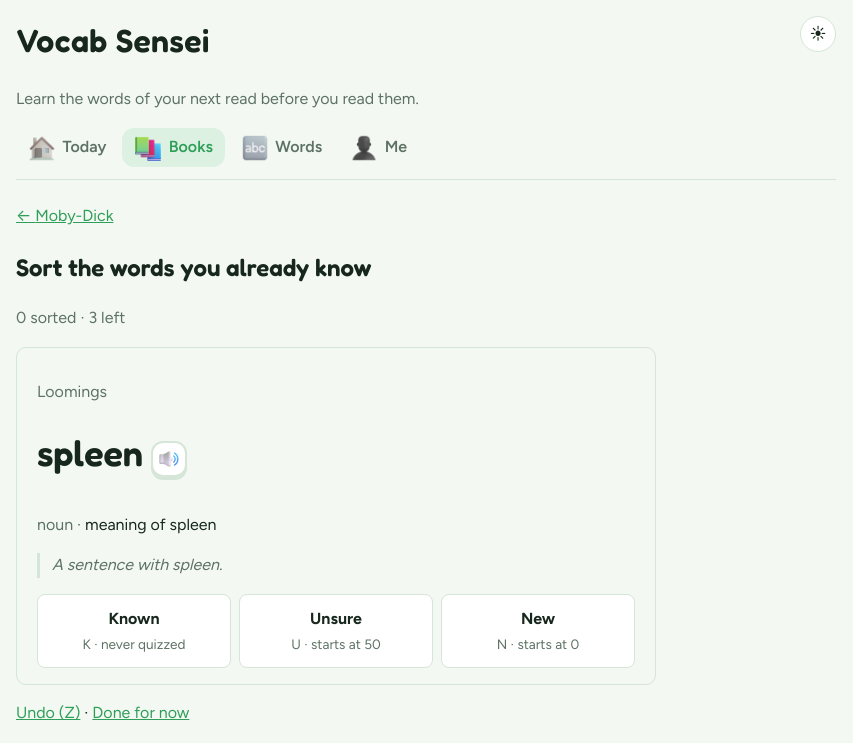
sorting words › undo brings the last card back
This screenshot has width=853, height=743.
Click the button "Known K · never quizzed" at (134, 631), box [37,594,231,668]
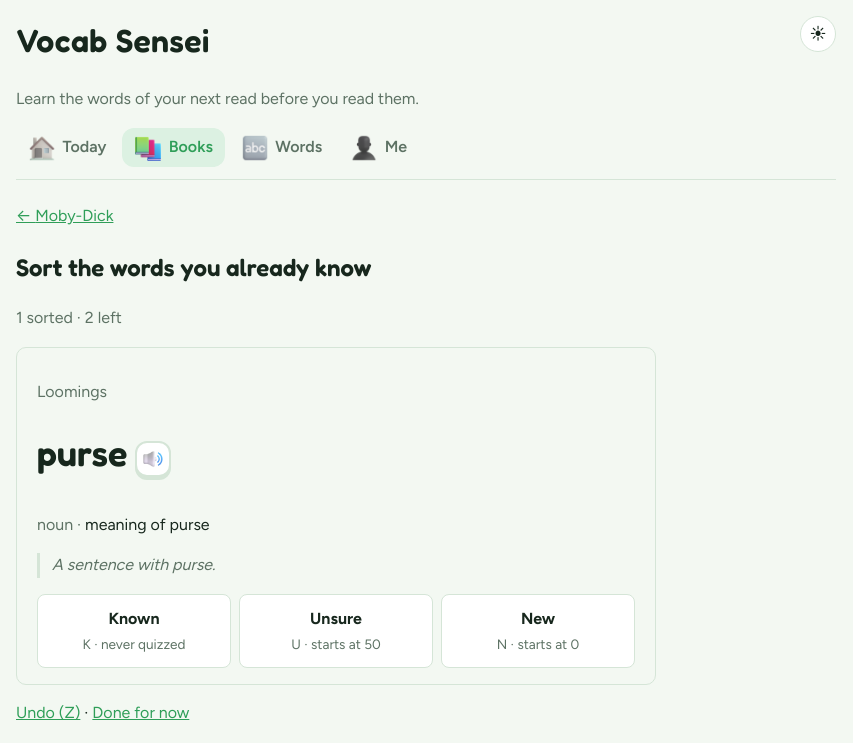
Check: the heading "purse" is shown, box [37,425,127,481]
Click the button "Undo (Z)" at (48, 714), box [16,702,80,726]
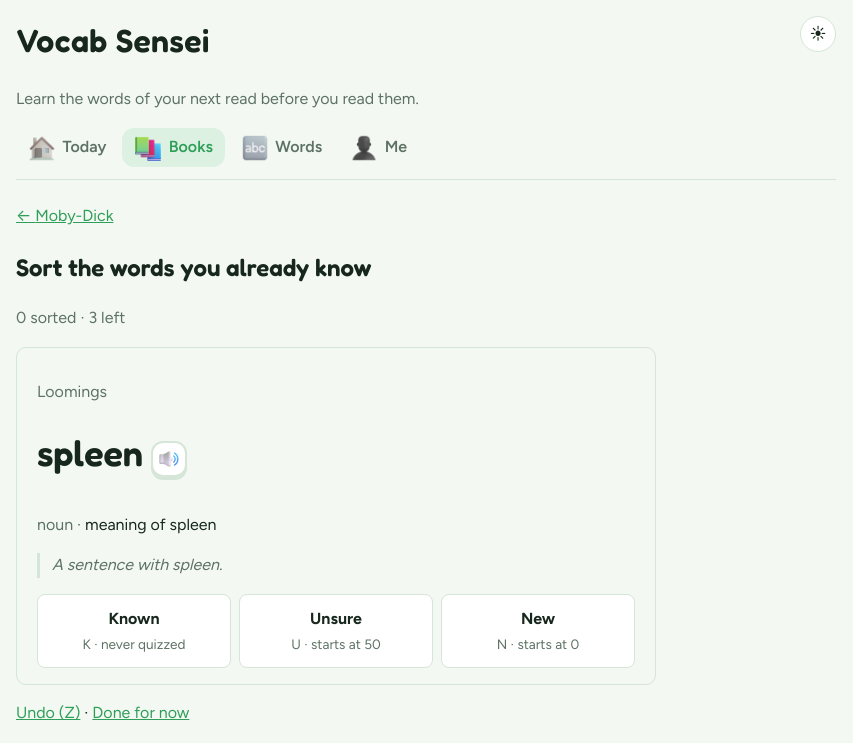
Check: the heading "spleen" is shown, box [37,425,143,481]
Check: the text "0 sorted · 3 left" is shown, box [16,308,125,327]
